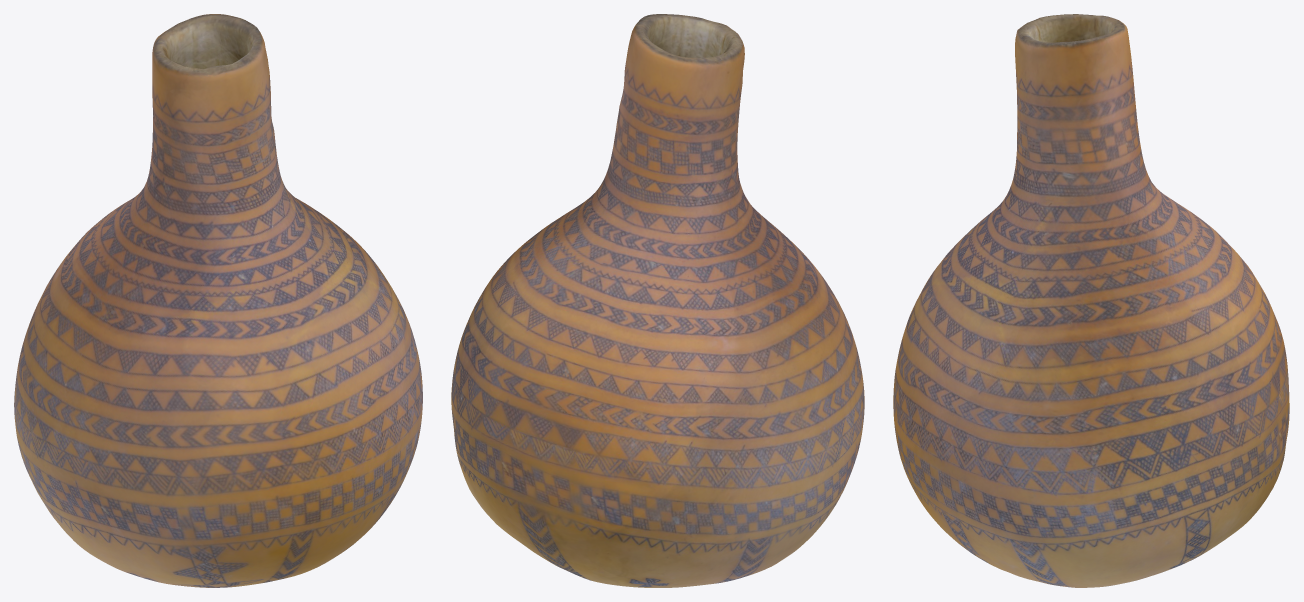
Rendered from gourd.gltf.
3 views of the same model, side by side, from view 1: azimuth 30°, elevation 25°; view 2: azimuth 150°, elevation 25°; view 3: azimuth 270°, elevation 25° (orthographic).
Parts seen in each view (by area): view 1: gourd-optimised.001; view 2: gourd-optimised.001; view 3: gourd-optimised.001.
Boxes of the visible parts, left/top/right/bottom form: gourd-optimised.001: left=14, top=14, right=422, bottom=587; gourd-optimised.001: left=451, top=14, right=864, bottom=587; gourd-optimised.001: left=893, top=14, right=1289, bottom=587.
Size of the model in its own units: 14.24 by 20.05 by 13.83.
Materials: 1 (1 with a texture image).
